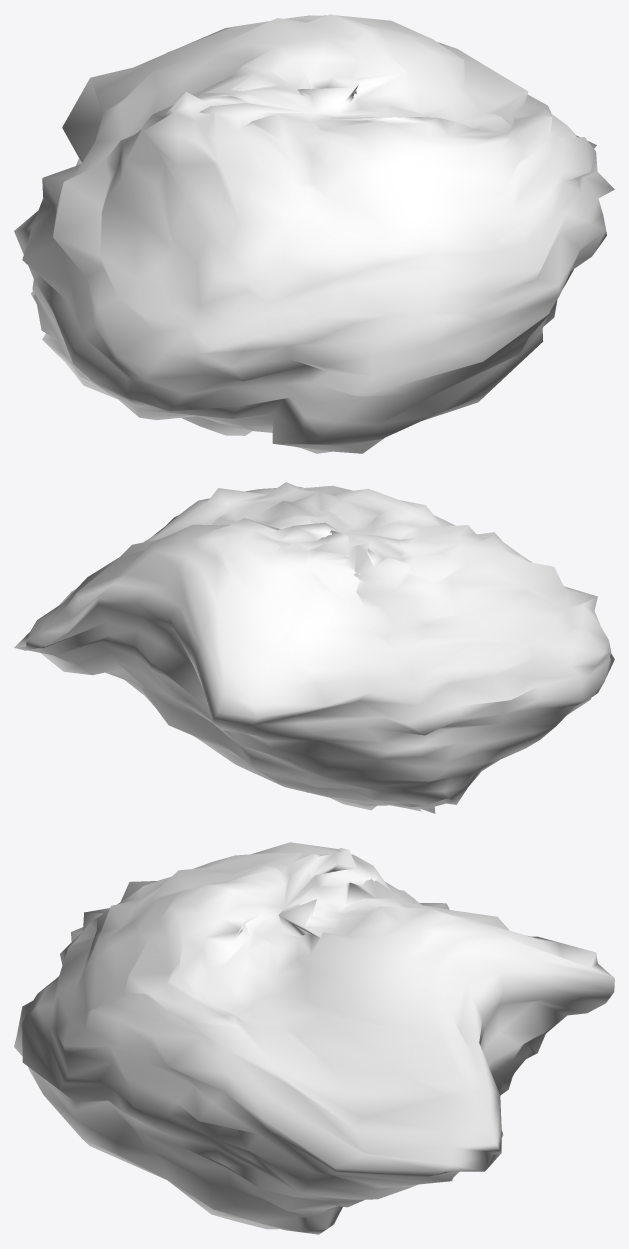
Rendered from Snowdrift.fbx.
3 renders of one model, top to bottom at view 1: azimuth 30°, elevation 25°; view 2: azimuth 150°, elevation 25°; view 3: azimuth 270°, elevation 25°, orthographic. The views are drawn at different scales.
Visible parts, largest first — view 1: Sphere; view 2: Sphere; view 3: Sphere.
Boxes of the visible parts, x1,y1,x2,y2 form: Sphere: (14, 14, 614, 453); Sphere: (14, 482, 614, 813); Sphere: (14, 842, 614, 1234).
Bounding box in the file's own units: 498 × 261 × 481.
Materials: 1 (1 with a texture image).
